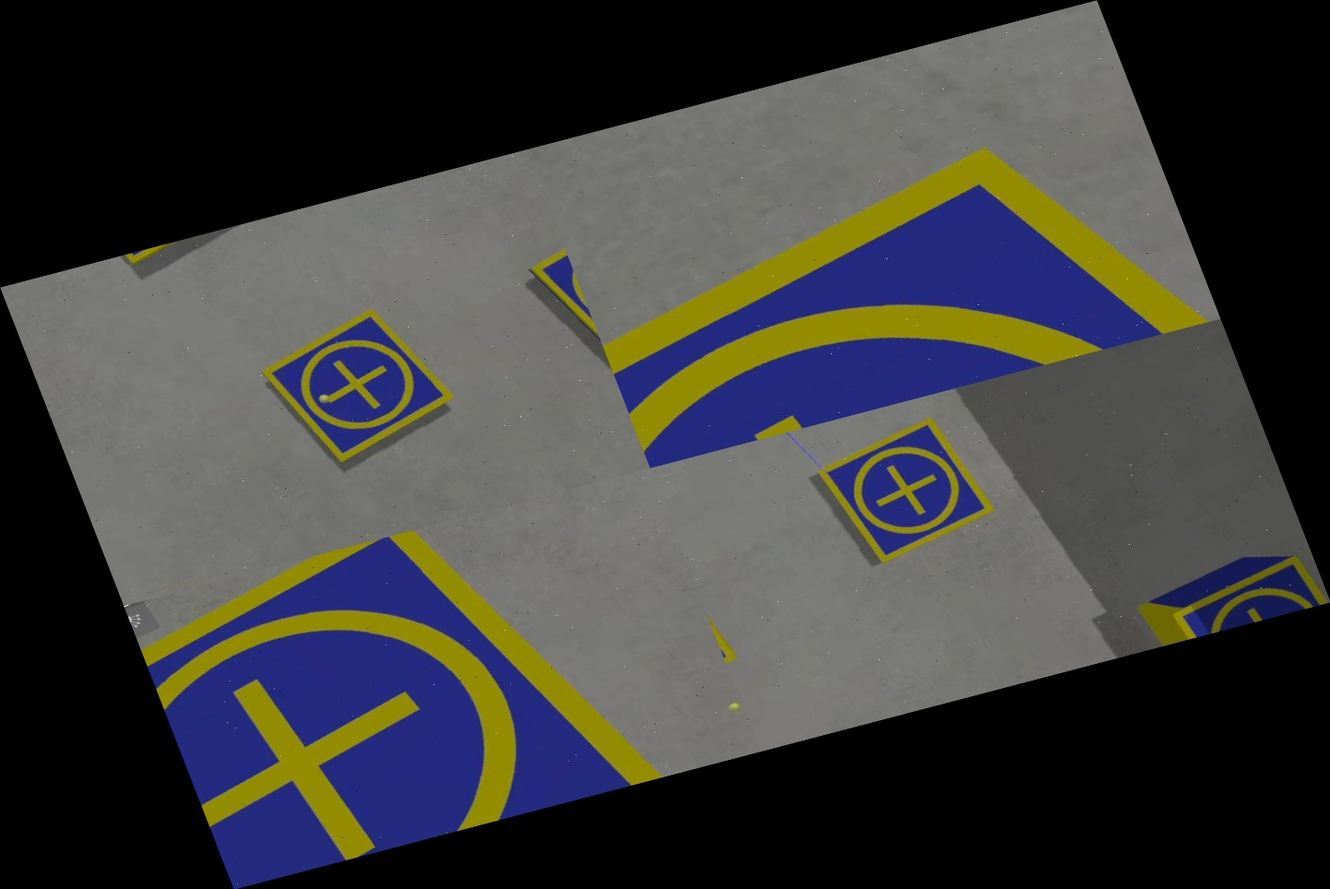small_base: (557, 78, 1220, 468), (124, 485, 695, 888), (250, 292, 474, 478), (806, 408, 1007, 571), (1157, 550, 1330, 642), (513, 223, 612, 379)
